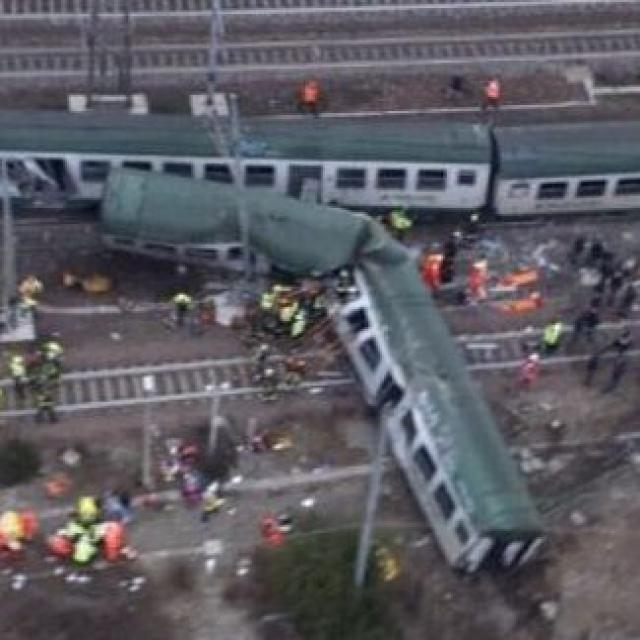traffic_incident: (61, 60, 591, 598)
